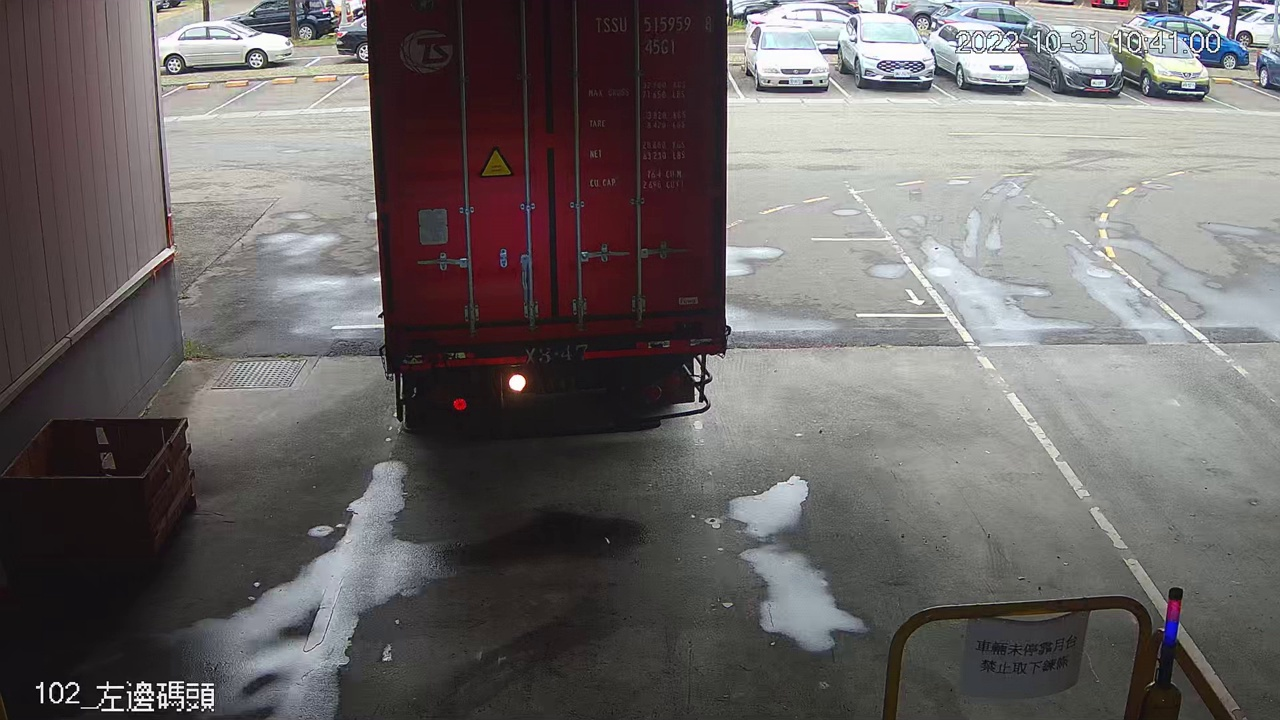container: (589, 8, 718, 60)
